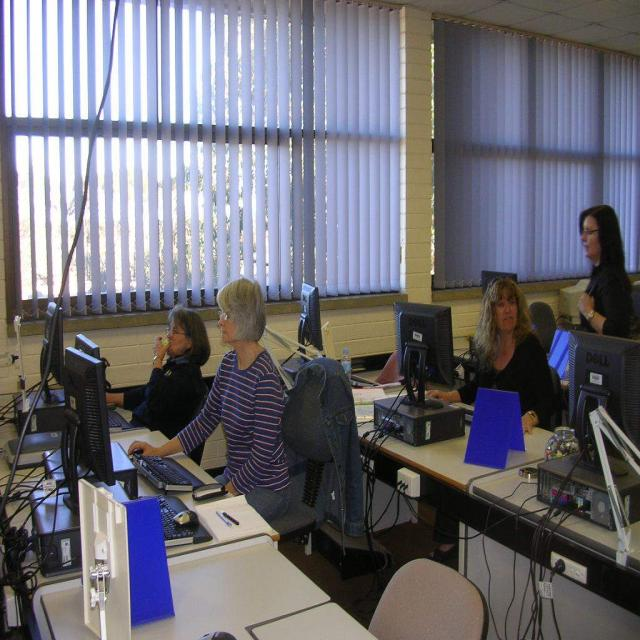chair: (269, 362, 334, 556), (367, 557, 487, 640)
desk: (304, 367, 602, 615)
keyboard: (134, 453, 210, 489)
laptop: (462, 388, 532, 472), (392, 301, 458, 387)
mouse: (198, 629, 238, 640), (173, 511, 198, 527)
person: (133, 276, 291, 526), (430, 276, 558, 432), (107, 307, 212, 433), (577, 205, 634, 339)
tv: (393, 301, 456, 385), (298, 282, 322, 353)
